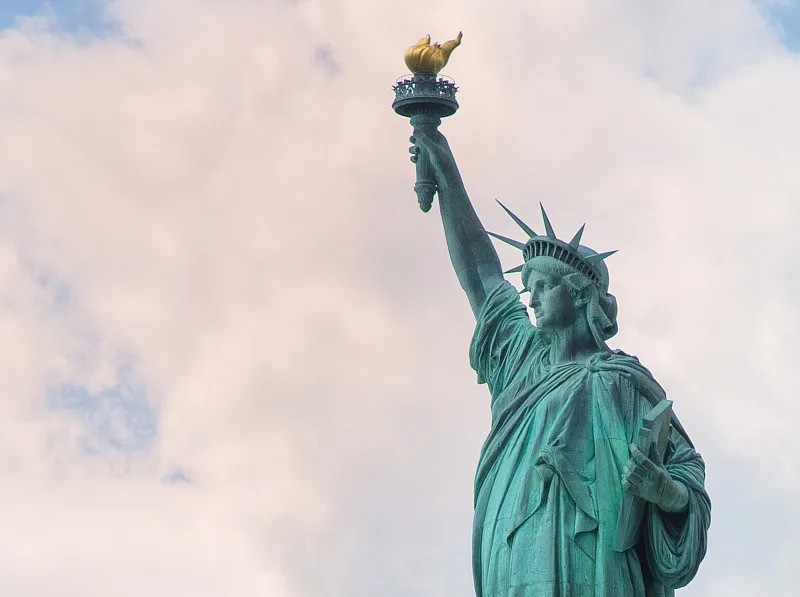SL: (391, 30, 713, 597)
